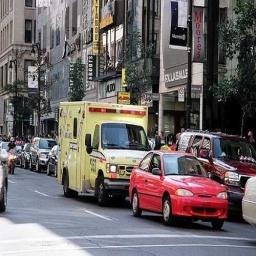ambulance: (57, 101, 150, 205)
